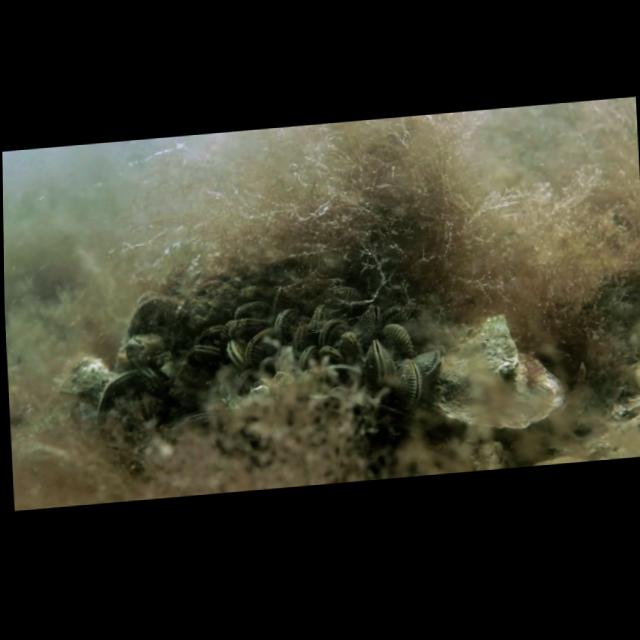Oyster-Closed: (94, 365, 142, 427), (303, 281, 373, 311), (362, 332, 395, 387), (396, 355, 425, 413), (380, 321, 417, 364), (411, 340, 450, 378), (244, 327, 276, 369), (272, 303, 304, 344), (313, 312, 350, 346), (184, 338, 223, 369), (352, 300, 386, 333), (228, 297, 273, 321), (137, 365, 168, 396), (224, 317, 271, 336), (338, 327, 365, 357), (380, 302, 407, 330), (225, 336, 247, 370), (291, 344, 320, 369), (293, 321, 314, 355), (195, 321, 225, 341), (314, 343, 342, 362), (310, 304, 326, 328)
